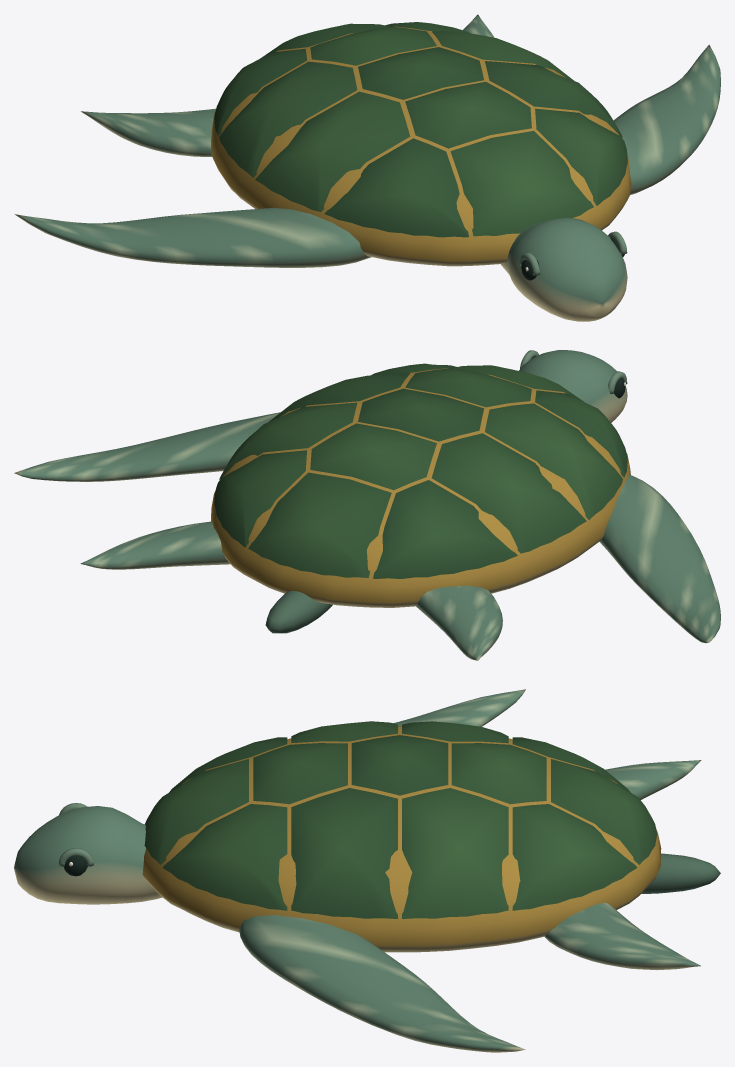
File: tortuga.glb
3 renders of one model, top to bottom at view 1: azimuth 30°, elevation 25°; view 2: azimuth 150°, elevation 25°; view 3: azimuth 270°, elevation 25°, orthographic. The views are drawn at different scales.
Parts seen in each view (by area): view 1: Caparazón, plastrón y cola, Delantera 0, Cabeza y cuello, Delantera 1, Trasera 2; view 2: Caparazón, plastrón y cola, Delantera 0, Delantera 1, Trasera 3, Trasera 2, Cabeza y cuello; view 3: Caparazón, plastrón y cola, Delantera 1, Cabeza y cuello, Trasera 3, Delantera 0, Trasera 2.
Part boxes in pixels (box(x1,y1,x2,y2)): Caparazón, plastrón y cola: box(211, 22, 631, 266); Delantera 0: box(14, 207, 371, 267); Cabeza y cuello: box(500, 218, 627, 321); Delantera 1: box(613, 44, 720, 194); Trasera 2: box(81, 108, 215, 156); Caparazón, plastrón y cola: box(211, 363, 630, 633); Delantera 0: box(599, 474, 720, 643); Delantera 1: box(14, 412, 280, 481); Trasera 3: box(80, 521, 230, 569); Trasera 2: box(416, 585, 502, 660); Cabeza y cuello: box(519, 350, 627, 422); Caparazón, plastrón y cola: box(142, 721, 720, 952); Delantera 1: box(239, 915, 525, 1052); Cabeza y cuello: box(14, 803, 162, 904); Trasera 3: box(544, 903, 700, 970); Delantera 0: box(393, 689, 525, 726); Trasera 2: box(605, 760, 701, 800).
Size of the model in its own units: 4.86 by 0.8983 by 4.03.
